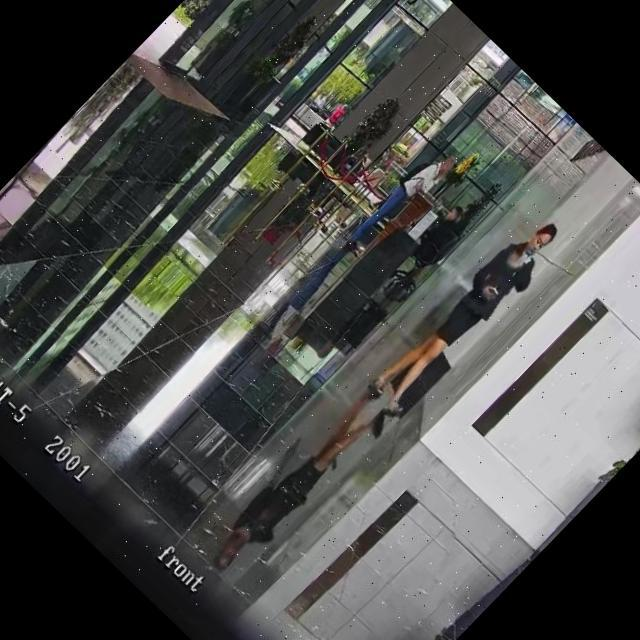person: (360, 208, 572, 424), (340, 143, 460, 264), (407, 201, 476, 271), (331, 137, 379, 185), (446, 199, 485, 239), (324, 102, 350, 128), (308, 88, 334, 114)
